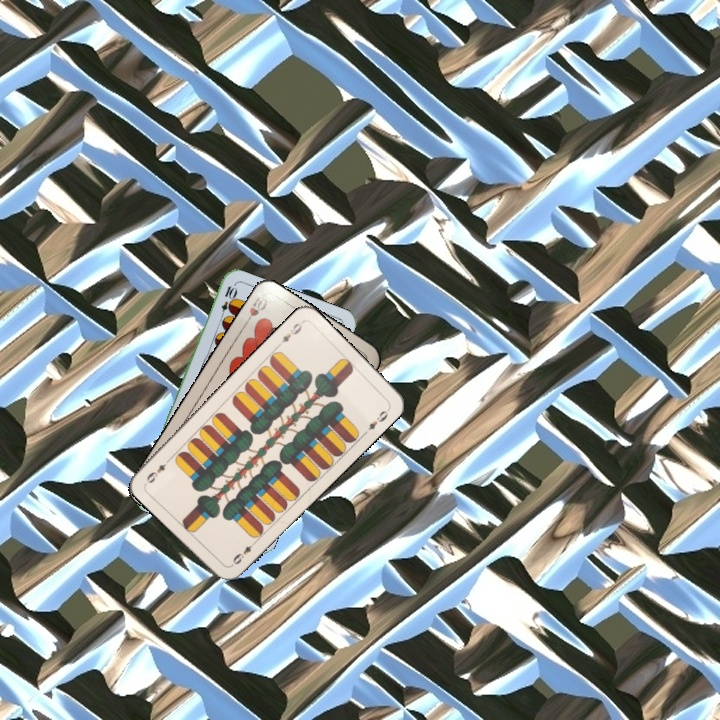E10: (216, 282, 238, 322)
E9: (273, 318, 306, 350), (227, 537, 259, 569)
H10: (240, 290, 271, 328)
